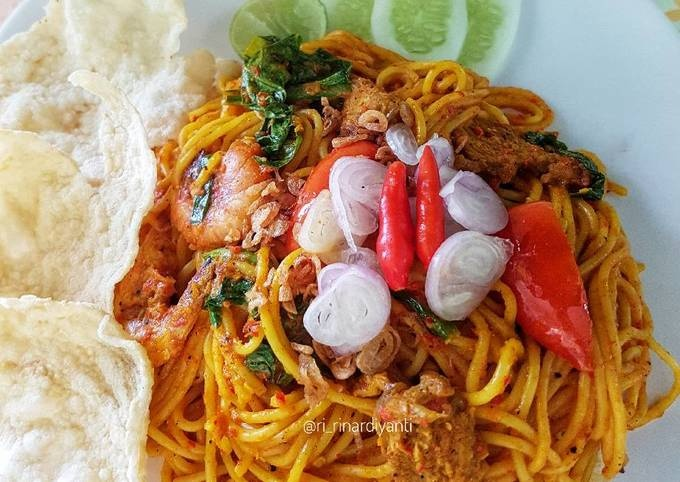mie_aceh: (123, 49, 680, 482)
